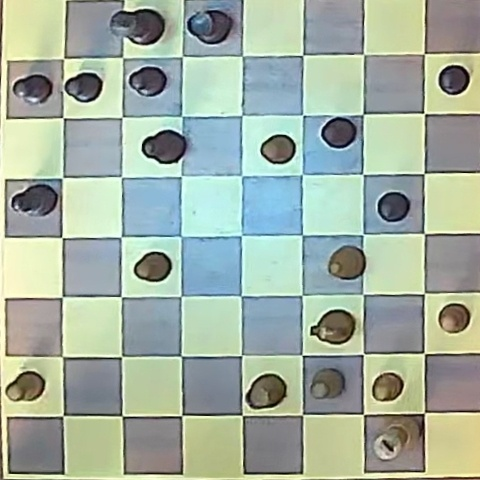black-bishop: (11, 184, 58, 217), (142, 130, 185, 164)
black-king: (111, 8, 164, 45)
black-pawn: (13, 74, 53, 104), (128, 66, 167, 96), (65, 72, 103, 102), (321, 117, 356, 148), (377, 191, 410, 221), (438, 65, 470, 95)
black-rook: (187, 9, 232, 44)
white-bishop: (328, 246, 366, 280)
white-king: (372, 419, 417, 461)
white-knight: (311, 310, 355, 345)
white-pawn: (6, 371, 45, 402), (134, 252, 171, 282), (260, 134, 296, 164), (310, 369, 344, 399), (438, 304, 469, 333), (372, 373, 403, 401)
white-rook: (247, 374, 286, 409)
